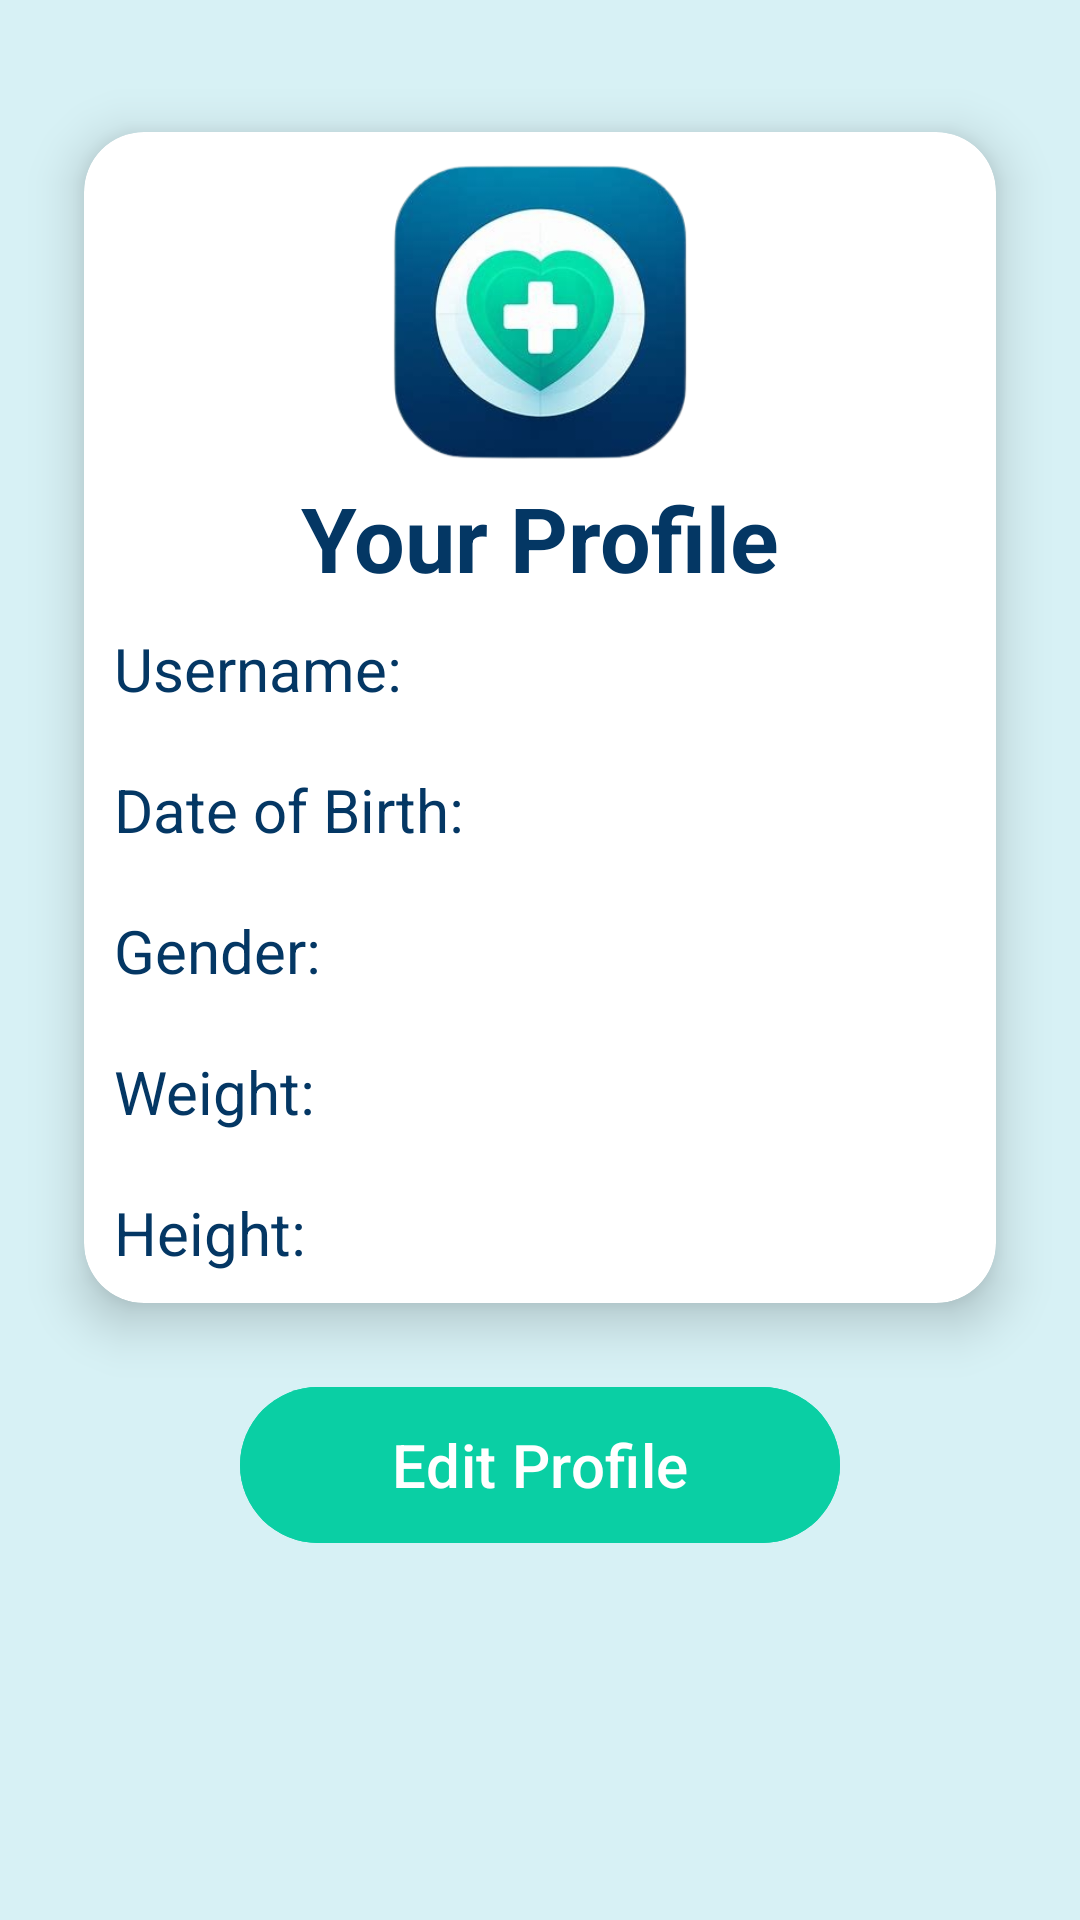

Where icons sit on this 1080x1920 app screen, as (x1, y1, x2, y2):
app: (394, 166, 687, 459)
